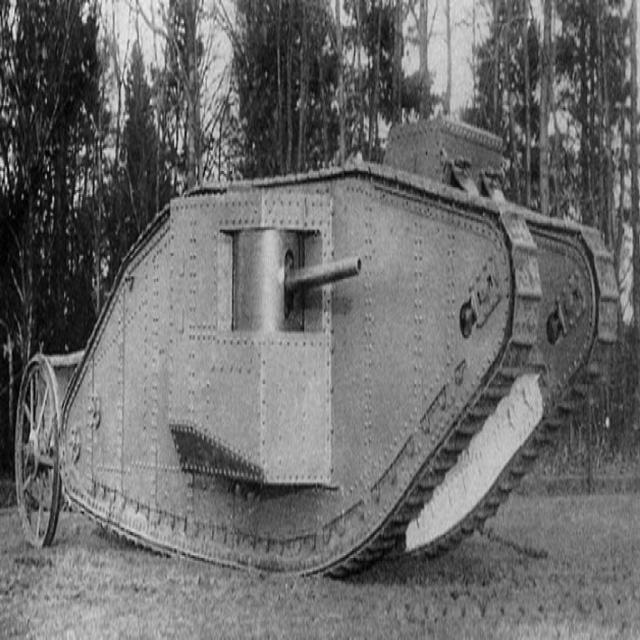tank: (13, 109, 619, 574)
